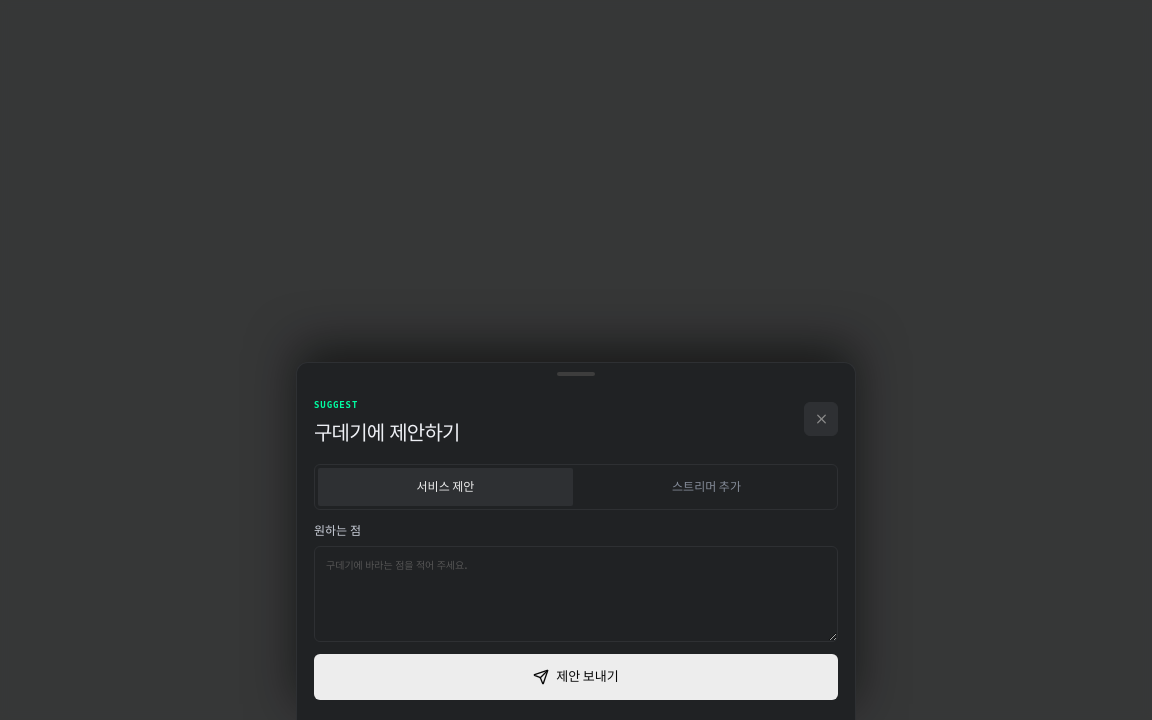
mobile-first entry and guidance › collects only an idea or a streamer name in the suggestion sheet
Expected: the text box labelled "원하는 점" is shown, 314,546 -> 838,642
Click the button "스트리머 추가": (706, 487) 579,468 -> 834,506
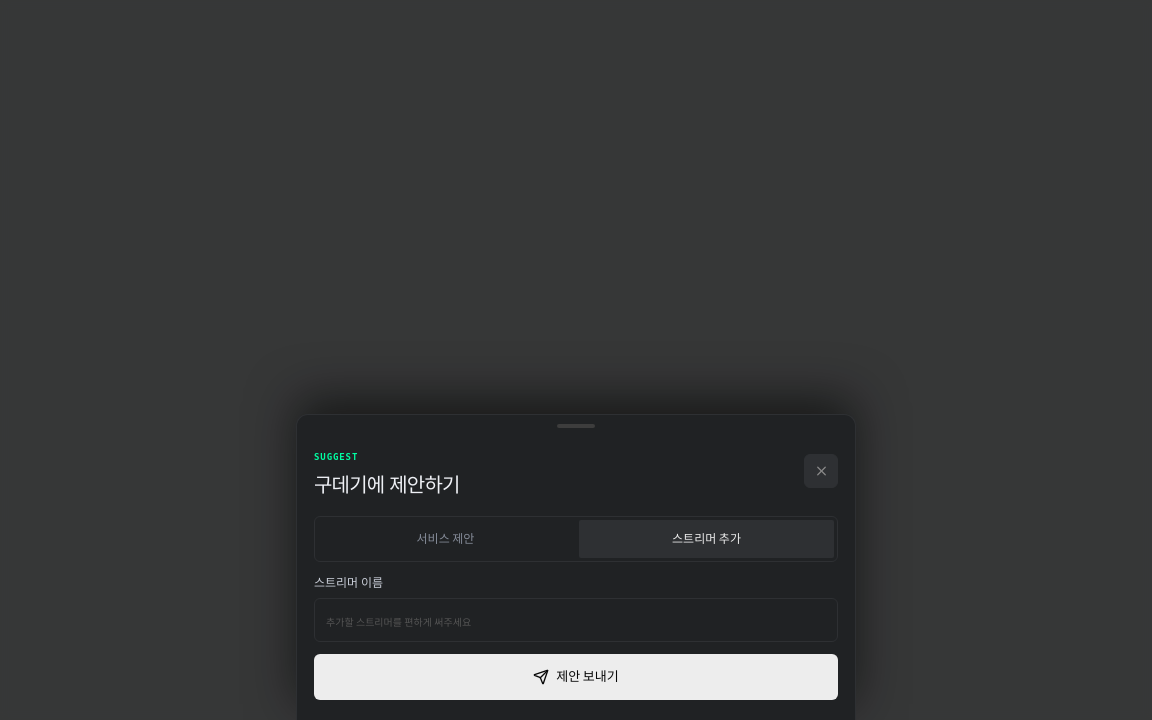
Now the text "원하는 점" is gone
